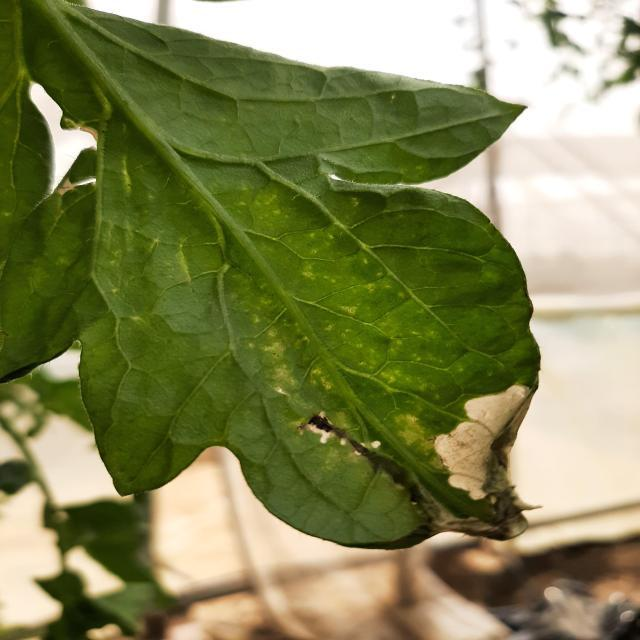Tuta absoluta: (419, 362, 541, 503)
